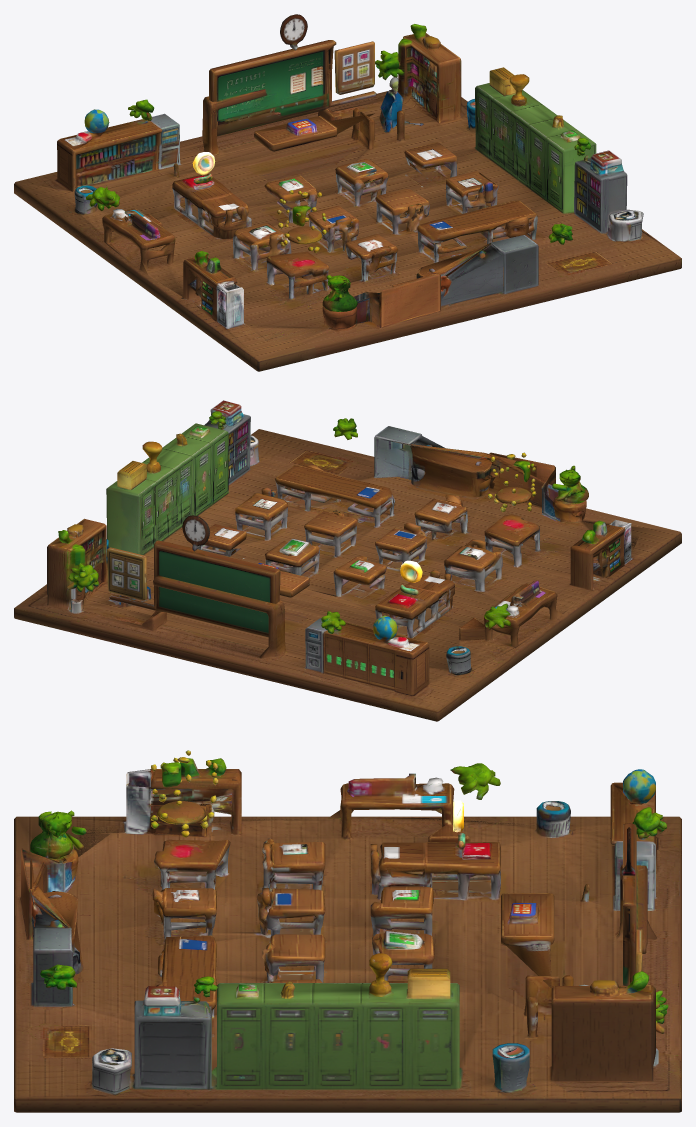
File: Meshy_AI_Floating_Classroom_0625052416_texture.fbx
The picture shows the model from 3 angles, top to bottom: view 1: azimuth 30°, elevation 25°; view 2: azimuth 150°, elevation 25°; view 3: azimuth 270°, elevation 25°; orthographic projection. The views are drawn at different scales.
Parts seen in each view (by area): view 1: Mesh_0; view 2: Mesh_0; view 3: Mesh_0.
Part boxes in pixels (<box>): Mesh_0: <box>14,14,681,371</box>; Mesh_0: <box>14,400,681,721</box>; Mesh_0: <box>14,750,681,1112</box>.
Bounding box in the file's own units: 191 × 55.19 × 191.
1 material, 1 textured.
